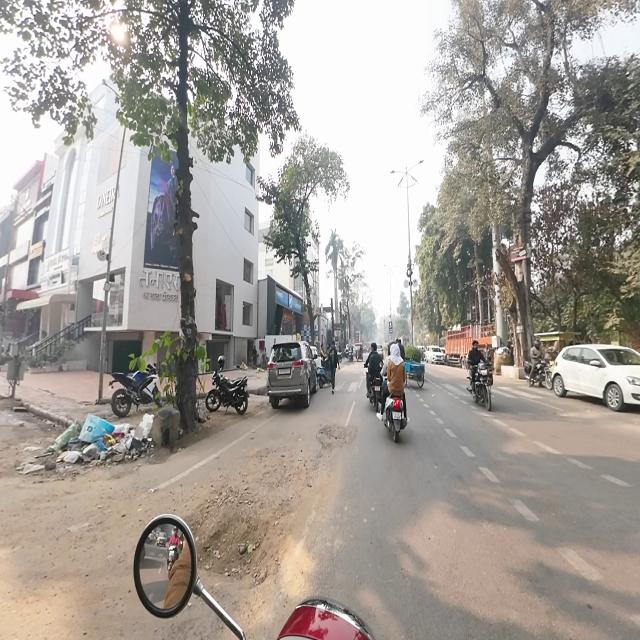Garbage: (61, 412, 152, 463)
